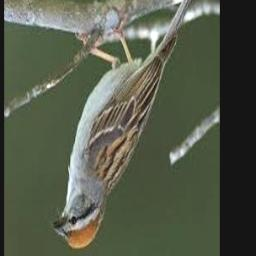Sparrow: (51, 0, 208, 251)
